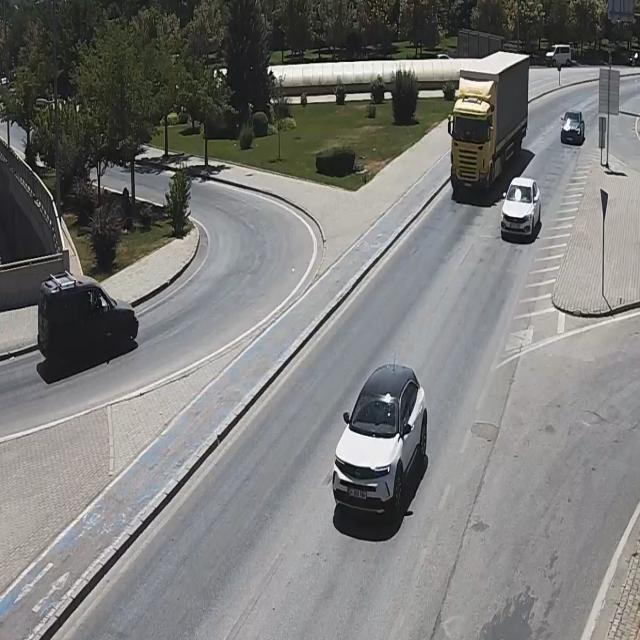Car: (329, 362, 427, 518), (36, 272, 138, 366), (500, 177, 541, 238), (560, 111, 586, 145)
Truck: (446, 50, 532, 196)
Van: (545, 44, 572, 68)
